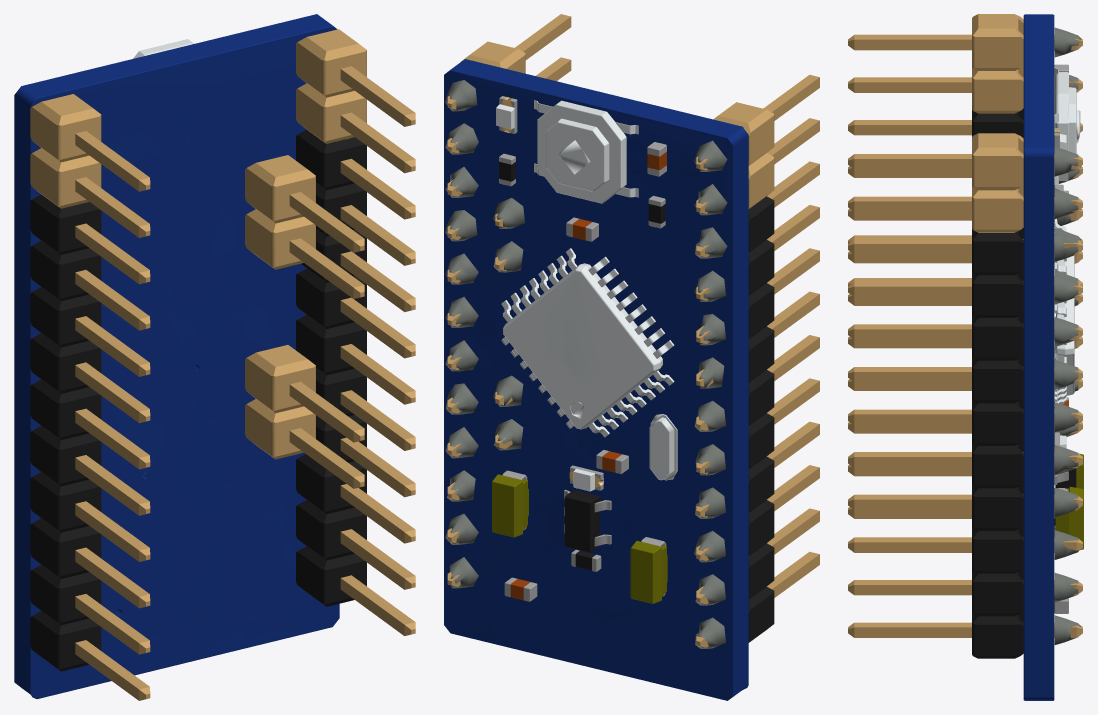
The model's file is sfe-sparkfun_arduino_pro_mini_with_pins.glb.
3 views of the same model, side by side, from view 1: azimuth 30°, elevation 25°; view 2: azimuth 150°, elevation 25°; view 3: azimuth 270°, elevation 25° (orthographic). The views are drawn at different scales.
Parts seen in each view (by area): view 1: 0_0_0.25_0, 0.5833333333333334_0.3333333333333333_0.16666666666666666_0, 0_0_0_0; view 2: 0_0_0.25_0, 0.75_0.8333333333333334_0.8333333333333334_0.85, 0.5833333333333334_0.3333333333333333_0.16666666666666666_0, 0.16666666666666666_0.16666666666666666_0.16666666666666666_, 0_0_0_0, 0.16666666666666666_0.16666666666666666_0_0, 0.4166666666666667_0.4166666666666667_0.4166666666666667_0, 0.3333333333333333_0.08333333333333333_0_0, 0.8333333333333334_0.9166666666666666_0.9166666666666666_0.8; view 3: 0.5833333333333334_0.3333333333333333_0.16666666666666666_0, 0_0_0_0, 0_0_0.25_0, 0.16666666666666666_0.16666666666666666_0.16666666666666666_, 0.75_0.8333333333333334_0.8333333333333334_0.85, 0.16666666666666666_0.16666666666666666_0_0, 0.4166666666666667_0.4166666666666667_0.4166666666666667_0.
Part boxes in pixels (x1=…): 0_0_0.25_0: x1=14, y1=14, x2=339, y2=698; 0.5833333333333334_0.3333333333333333_0.16666666666666666_0: x1=30, y1=29, x2=415, y2=700; 0_0_0_0: x1=30, y1=129, x2=366, y2=671; 0_0_0.25_0: x1=444, y1=59, x2=748, y2=700; 0.75_0.8333333333333334_0.8333333333333334_0.85: x1=501, y1=100, x2=677, y2=480; 0.5833333333333334_0.3333333333333333_0.16666666666666666_0: x1=447, y1=14, x2=819, y2=647; 0.16666666666666666_0.16666666666666666_0.16666666666666666_: x1=445, y1=80, x2=727, y2=648; 0_0_0_0: x1=499, y1=161, x2=774, y2=642; 0.16666666666666666_0.16666666666666666_0_0: x1=492, y1=474, x2=667, y2=603; 0.4166666666666667_0.4166666666666667_0.4166666666666667_0: x1=499, y1=96, x2=666, y2=601; 0.3333333333333333_0.08333333333333333_0_0: x1=510, y1=152, x2=666, y2=600; 0.8333333333333334_0.9166666666666666_0.9166666666666666_0.8: x1=496, y1=104, x2=594, y2=491; 0.5833333333333334_0.3333333333333333_0.16666666666666666_0: x1=848, y1=14, x2=1082, y2=637; 0_0_0_0: x1=972, y1=108, x2=1076, y2=658; 0_0_0.25_0: x1=1023, y1=14, x2=1054, y2=700; 0.16666666666666666_0.16666666666666666_0.16666666666666666_: x1=1054, y1=27, x2=1081, y2=644; 0.75_0.8333333333333334_0.8333333333333334_0.85: x1=1054, y1=66, x2=1080, y2=409; 0.16666666666666666_0.16666666666666666_0_0: x1=1055, y1=453, x2=1083, y2=549; 0.4166666666666667_0.4166666666666667_0.4166666666666667_0: x1=1054, y1=64, x2=1068, y2=613.
Bounding box in the file's own units: 1.78 × 3.3 × 1.27.
